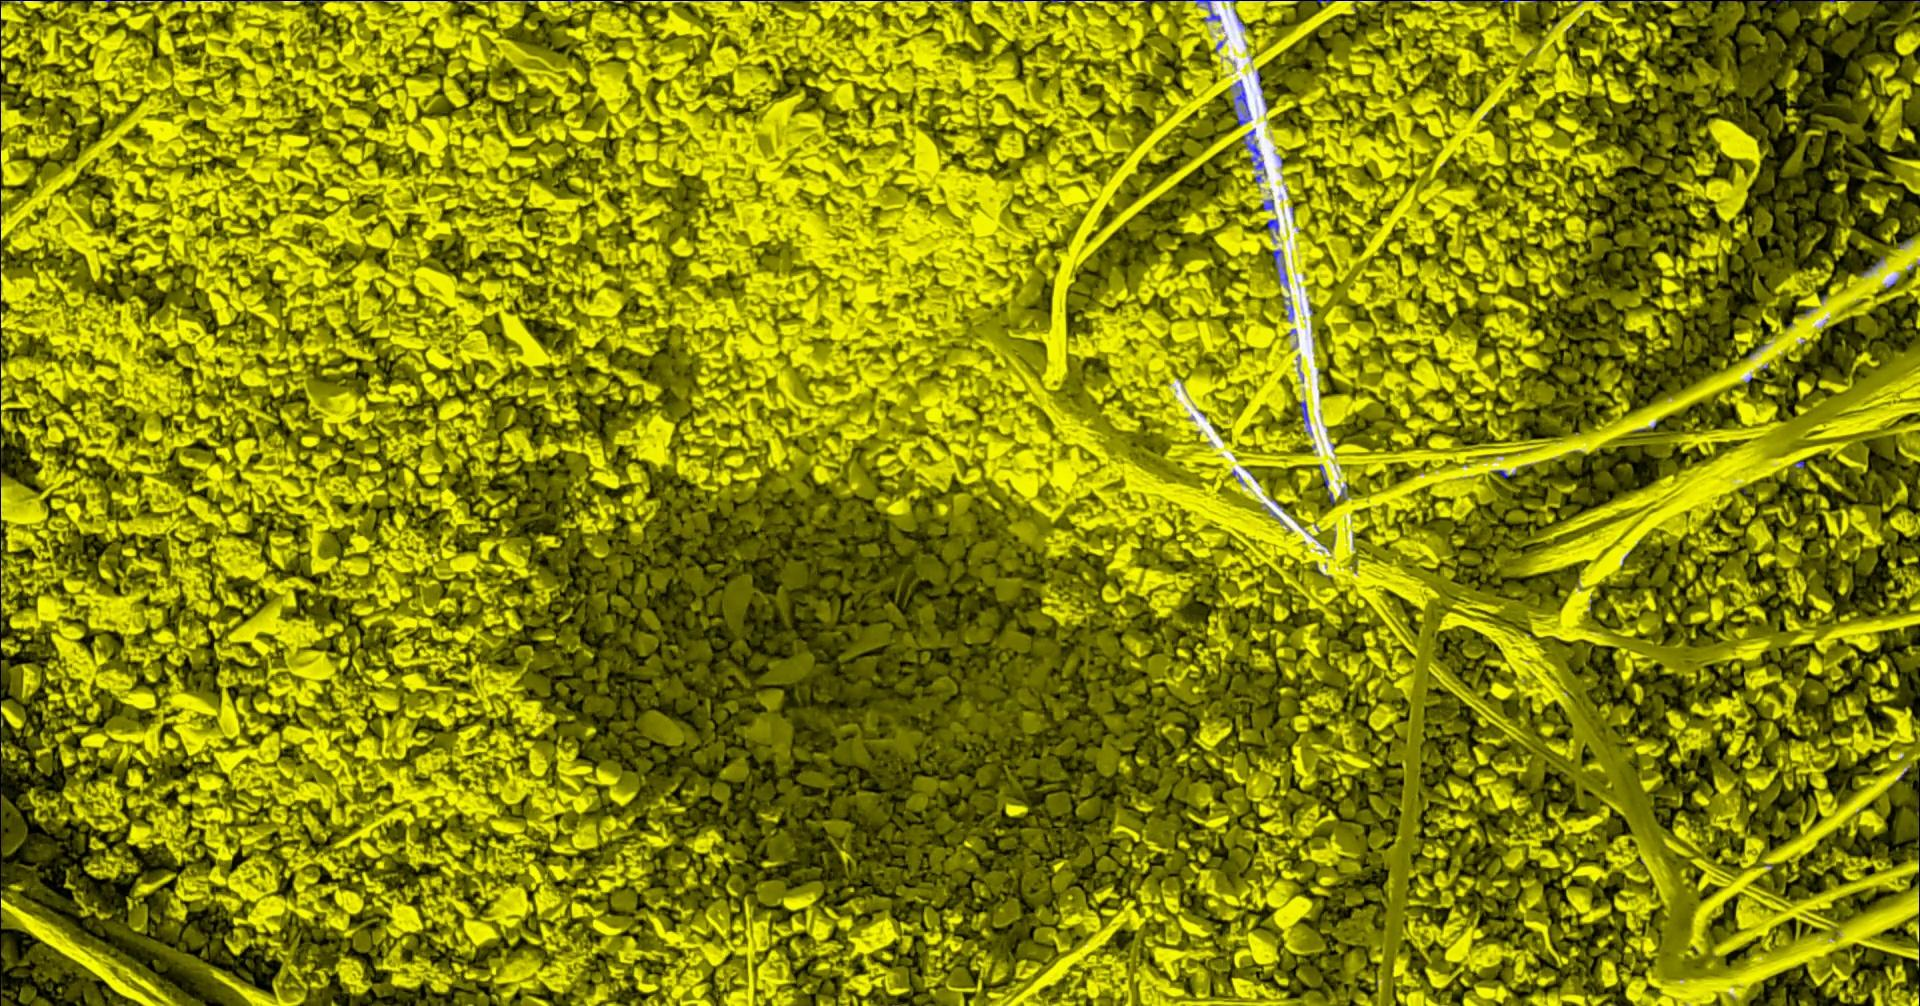ant: (1185, 0, 1236, 22), (1234, 80, 1250, 124), (1244, 142, 1262, 168), (1444, 0, 1521, 3), (1299, 401, 1308, 423)
